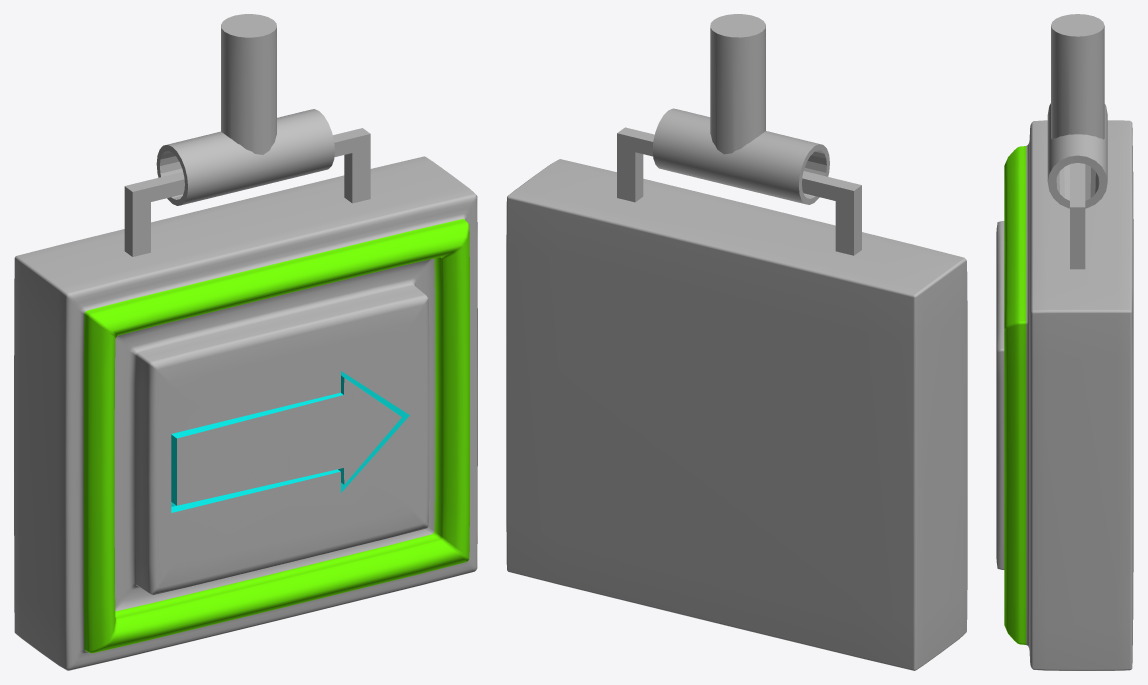
Rendered from mdl_ButtonReturn.fbx.
3 views of the same model, side by side, from view 1: azimuth 30°, elevation 25°; view 2: azimuth 150°, elevation 25°; view 3: azimuth 270°, elevation 25° (orthographic). The views are drawn at different scales.
Parts seen in each view (by area): view 1: Letrero_Base1_Base_Letrero_Salir2, pCylinder12, Soporte1, pCube30; view 2: Letrero_Base1_Base_Letrero_Salir2, pCylinder12, Soporte1, pCube30; view 3: Letrero_Base1_Base_Letrero_Salir2, Soporte1, pCylinder12, pCube30.
Part boxes in pixels (x1,y1,x2,y2): Letrero_Base1_Base_Letrero_Salir2: [14, 156, 477, 670]; pCylinder12: [156, 109, 334, 205]; Soporte1: [221, 14, 276, 154]; pCube30: [124, 128, 370, 256]; Letrero_Base1_Base_Letrero_Salir2: [506, 159, 967, 670]; pCylinder12: [652, 108, 829, 204]; Soporte1: [710, 14, 765, 154]; pCube30: [617, 127, 861, 255]; Letrero_Base1_Base_Letrero_Salir2: [996, 120, 1133, 670]; Soporte1: [1051, 14, 1104, 139]; pCylinder12: [1047, 103, 1107, 208]; pCube30: [1070, 163, 1085, 269].
Bounding box in the file's own units: 1.1 × 1.47 × 0.3325.
